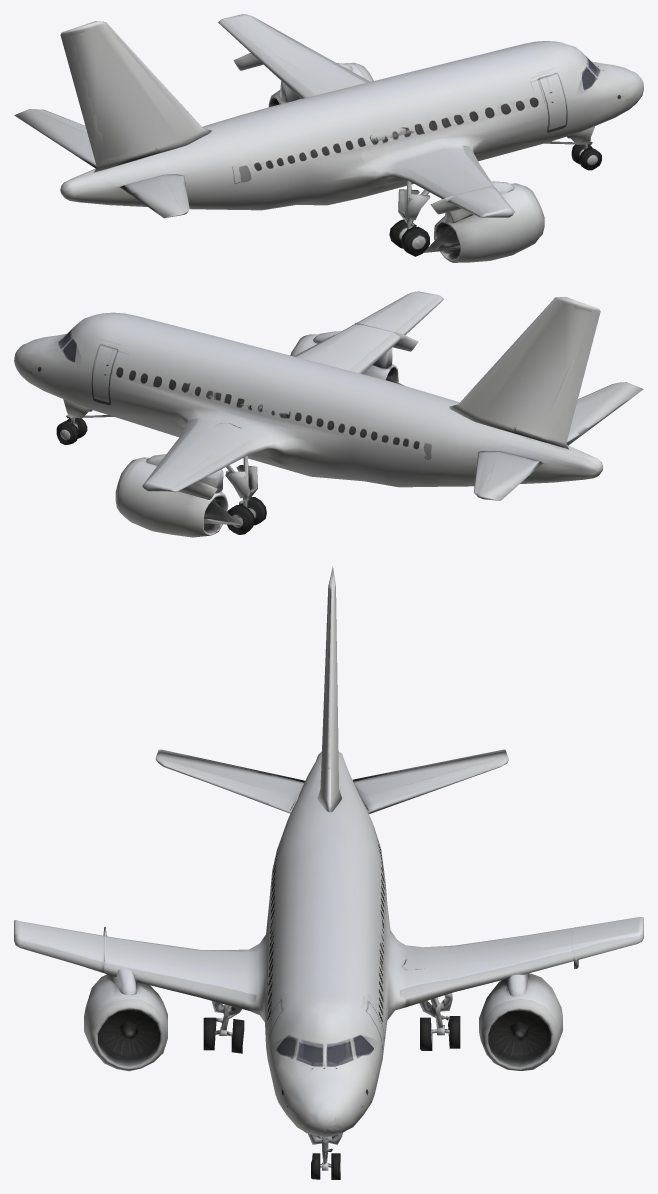
The model's file is liner.glb.
3 views of the same model, one above another, from view 1: azimuth 30°, elevation 25°; view 2: azimuth 150°, elevation 25°; view 3: azimuth 270°, elevation 25° (orthographic). The views are drawn at different scales.
Visible parts, largest first — view 1: tripo_node_a0600be5-c047-4505-b2aa-b3b8654573f7; view 2: tripo_node_a0600be5-c047-4505-b2aa-b3b8654573f7; view 3: tripo_node_a0600be5-c047-4505-b2aa-b3b8654573f7.
Boxes of the visible parts, x1=… form: tripo_node_a0600be5-c047-4505-b2aa-b3b8654573f7: x1=14, y1=14, x2=643, y2=262; tripo_node_a0600be5-c047-4505-b2aa-b3b8654573f7: x1=14, y1=291, x2=643, y2=537; tripo_node_a0600be5-c047-4505-b2aa-b3b8654573f7: x1=14, y1=566, x2=643, y2=1179.
Size of the model in its own units: 0.998 by 0.4316 by 0.791.
1 material, 1 textured.
